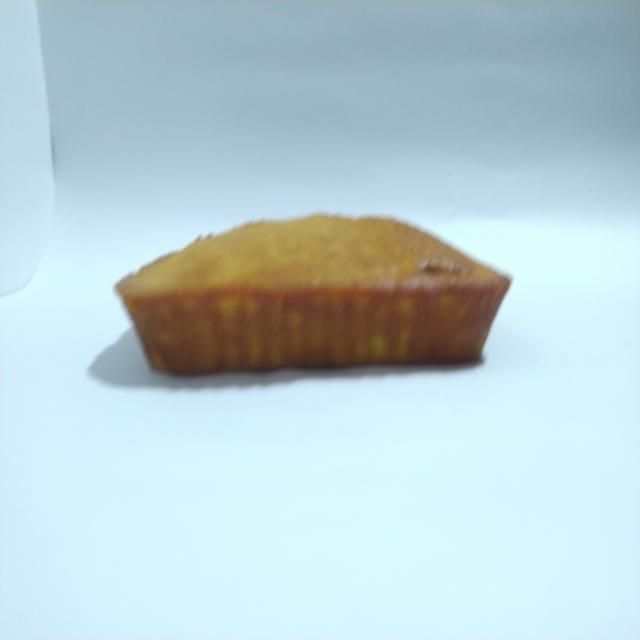Food: (106, 203, 515, 403)
